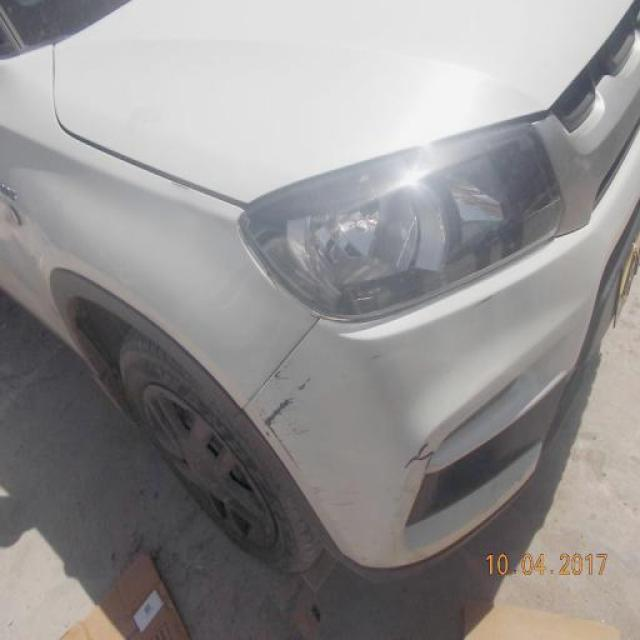car damage: (387, 467, 430, 566), (261, 369, 320, 433), (258, 417, 302, 469), (404, 433, 442, 475), (467, 292, 500, 315), (365, 349, 390, 365)
